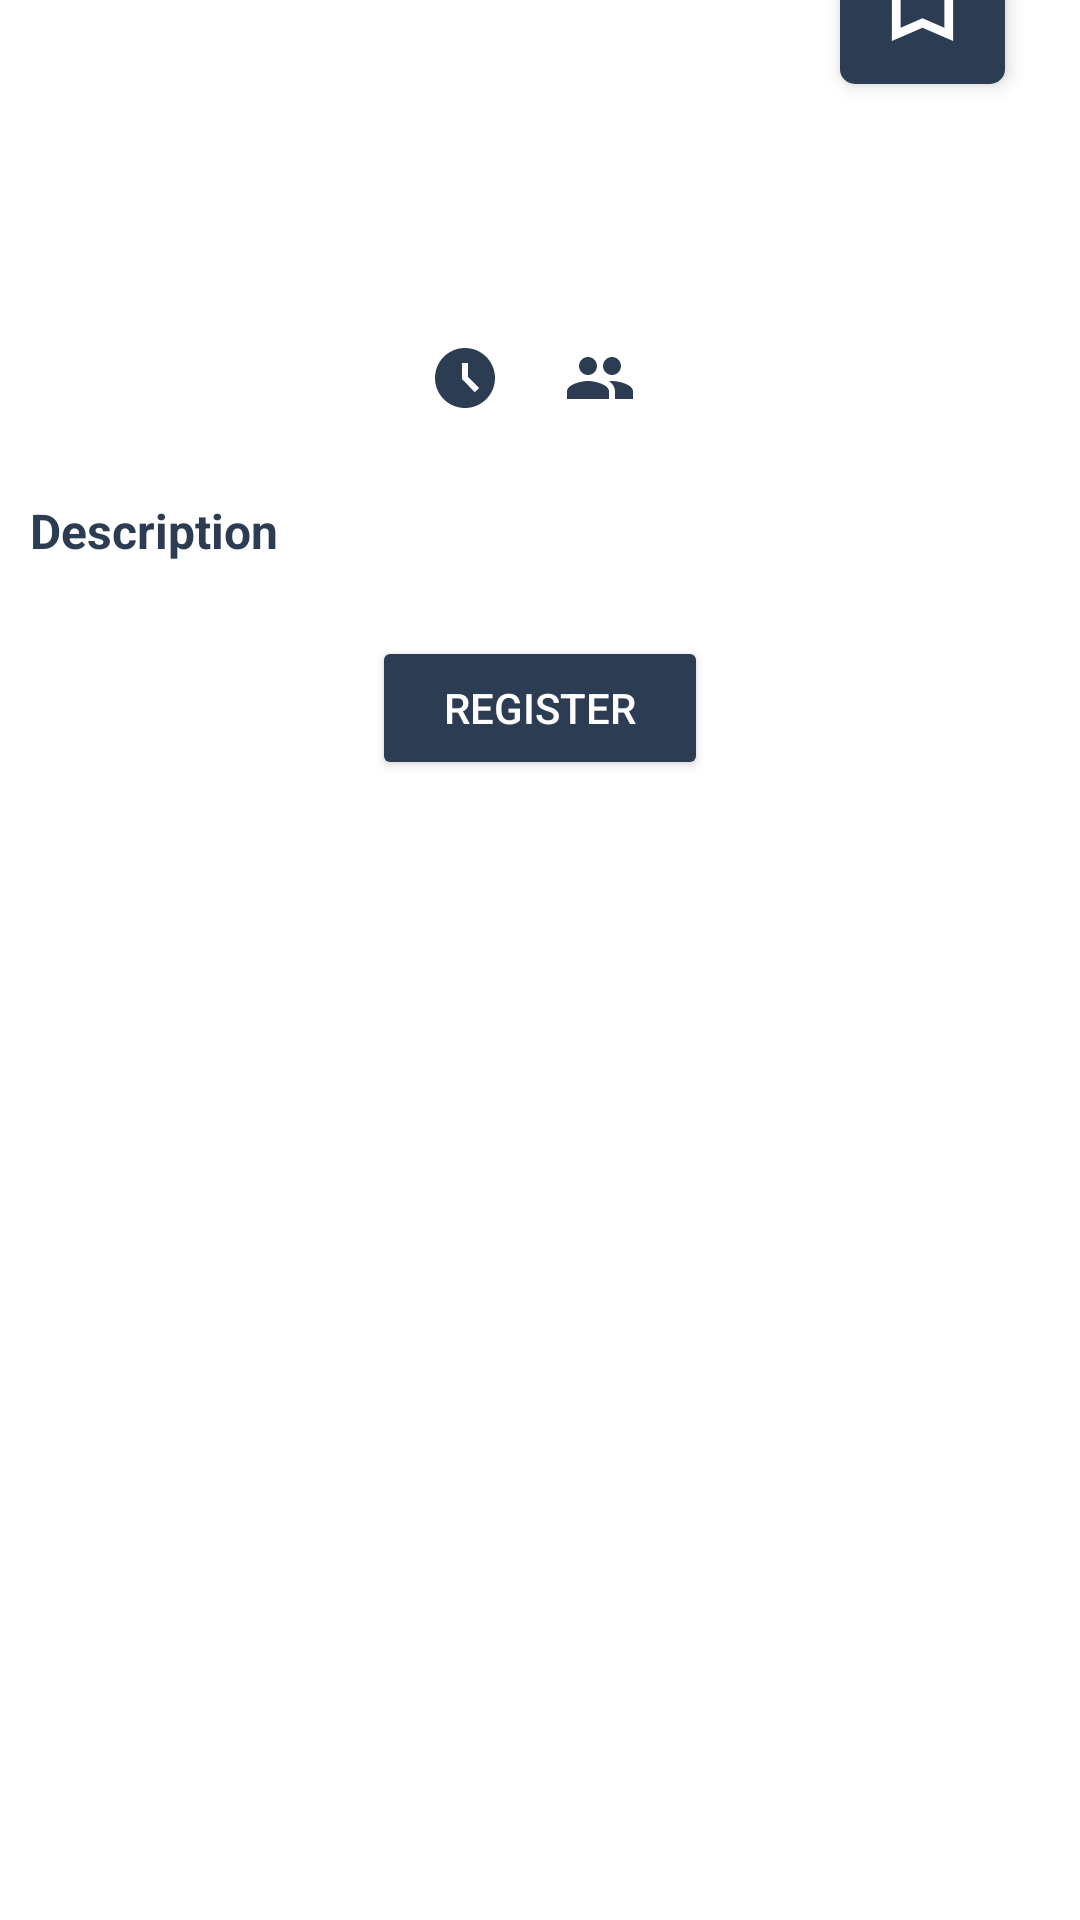

Icon click points for this 1080 × 1920 phone screenshot, format (x,y):
time: (465,378)
